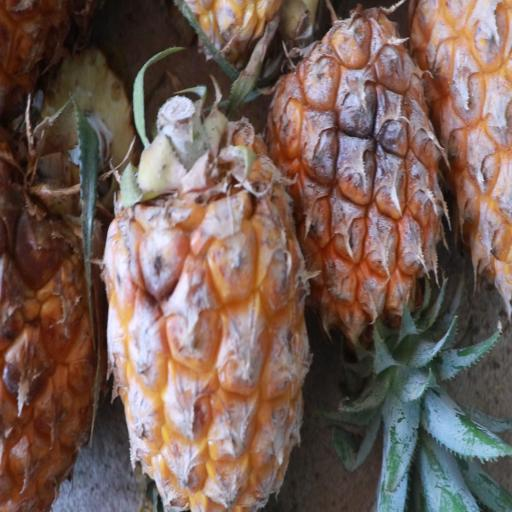Pineapple - v8 v1: (99, 121, 316, 512), (255, 0, 453, 385)
